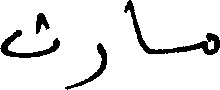ا: (127, 0, 149, 54)
ث: (0, 11, 59, 58)
ر: (64, 40, 105, 87)
م: (201, 30, 218, 55)
